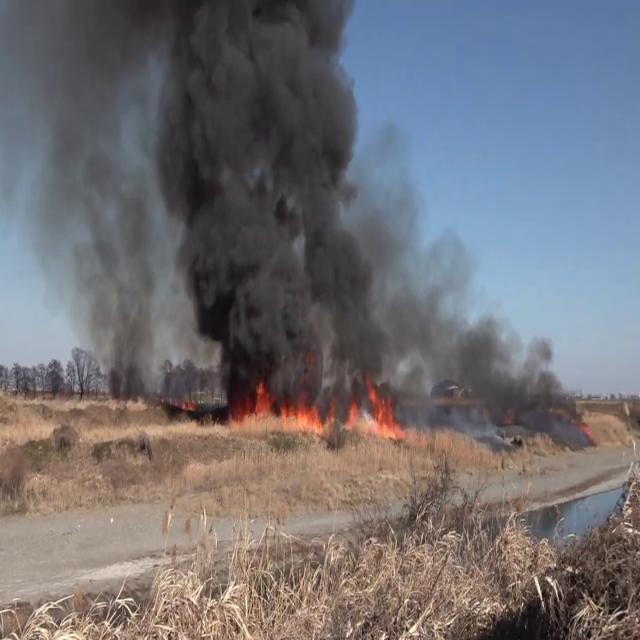Fire: (222, 376, 328, 436), (344, 374, 405, 440)
Smoke: (0, 0, 422, 404), (402, 244, 586, 430)
